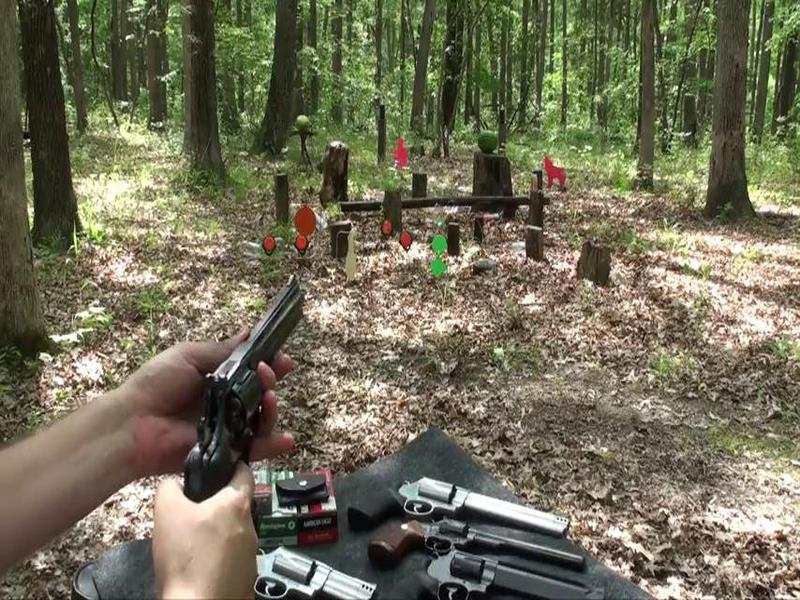Revolver: (163, 254, 328, 533)
